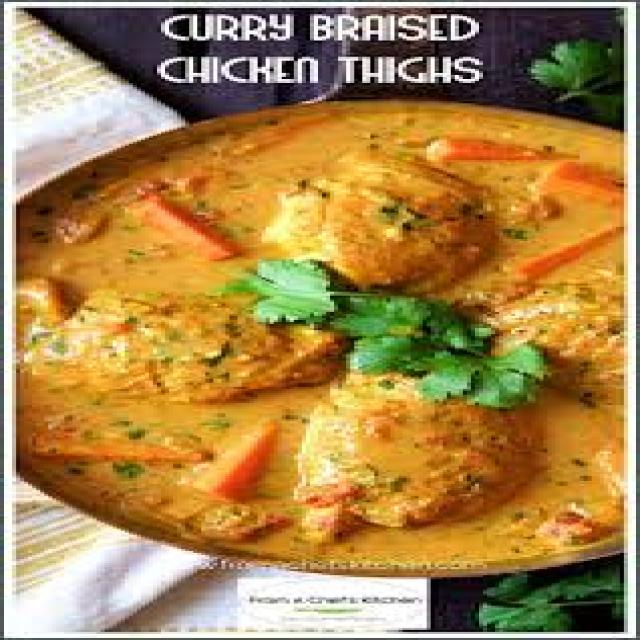Frango: (28, 128, 640, 553)
